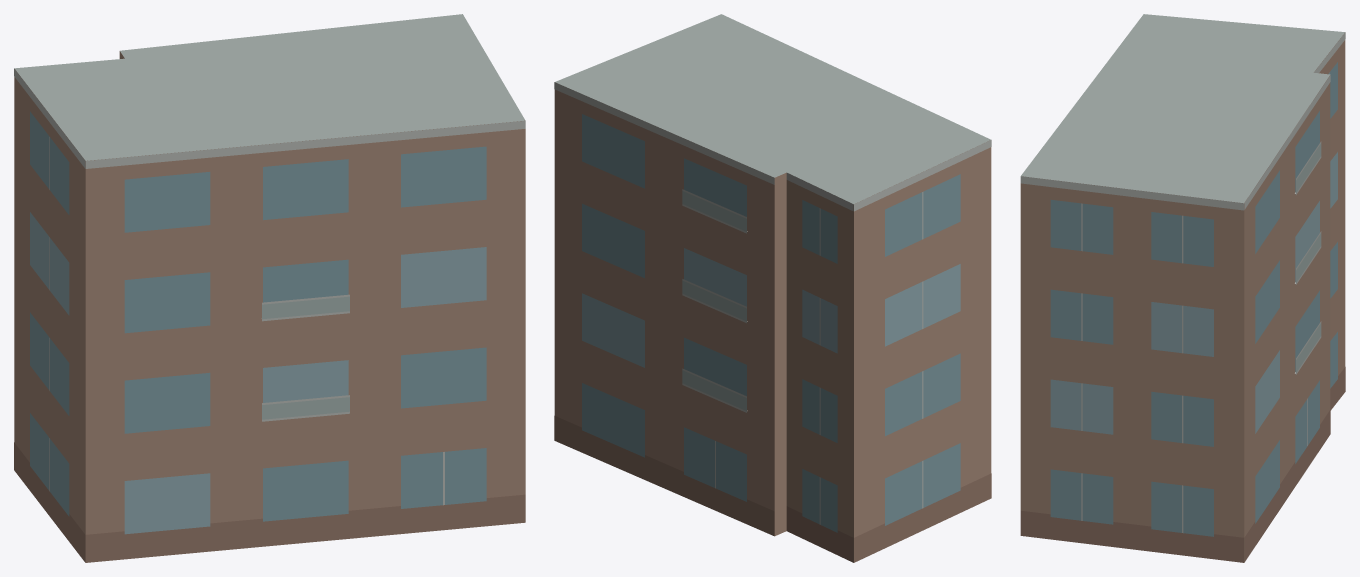
File: survey-upis-32489076.glb
The picture shows the model from 3 angles, left to right: view 1: azimuth 30°, elevation 25°; view 2: azimuth 150°, elevation 25°; view 3: azimuth 270°, elevation 25°; orthographic projection. The views are drawn at different scales.
Visible parts, largest first — view 1: survey-upis-32489076.tmp; view 2: survey-upis-32489076.tmp; view 3: survey-upis-32489076.tmp.
Part boxes in pixels (bbox=[...]): survey-upis-32489076.tmp: bbox=[14, 14, 525, 562]; survey-upis-32489076.tmp: bbox=[554, 14, 991, 562]; survey-upis-32489076.tmp: bbox=[1020, 14, 1345, 562].
Bounding box in the file's own units: 13.57 × 12.02 × 9.85.
